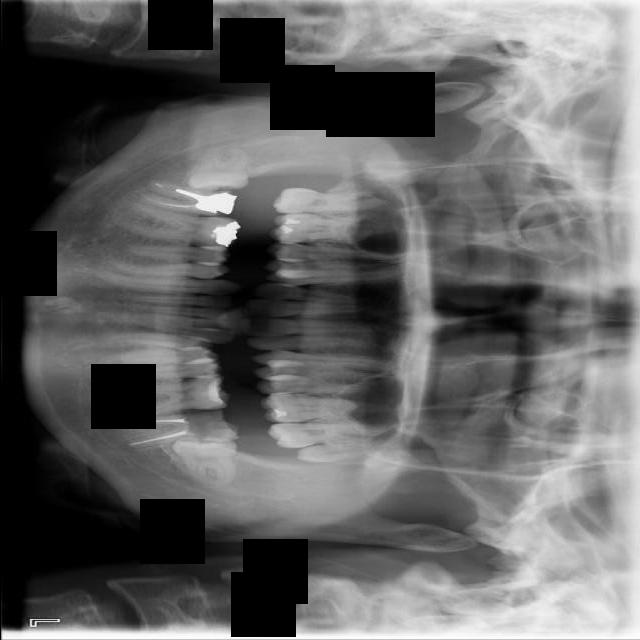52: (188, 210, 242, 256), (180, 373, 231, 411), (259, 389, 309, 426), (269, 208, 316, 247), (184, 407, 229, 445), (199, 183, 238, 223)
73: (116, 410, 192, 451), (135, 176, 211, 217), (68, 596, 80, 602)
BioHorizons Implant: (266, 422, 390, 449)
BioLife Implant: (295, 440, 391, 465)
Biomet 3i Implant: (169, 434, 237, 491)
Blue Sky Bio Implant: (117, 408, 239, 449)
Caries: (272, 185, 395, 214)
Implant: (136, 177, 238, 220)
Keystone Dental Implant: (186, 147, 249, 191)
